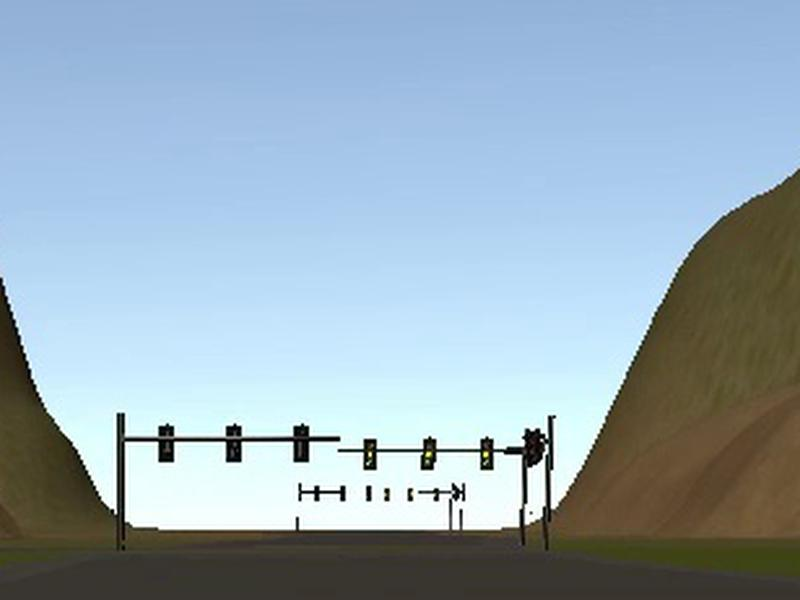Yellow: (421, 439, 437, 471), (364, 439, 377, 470), (480, 439, 493, 470)
